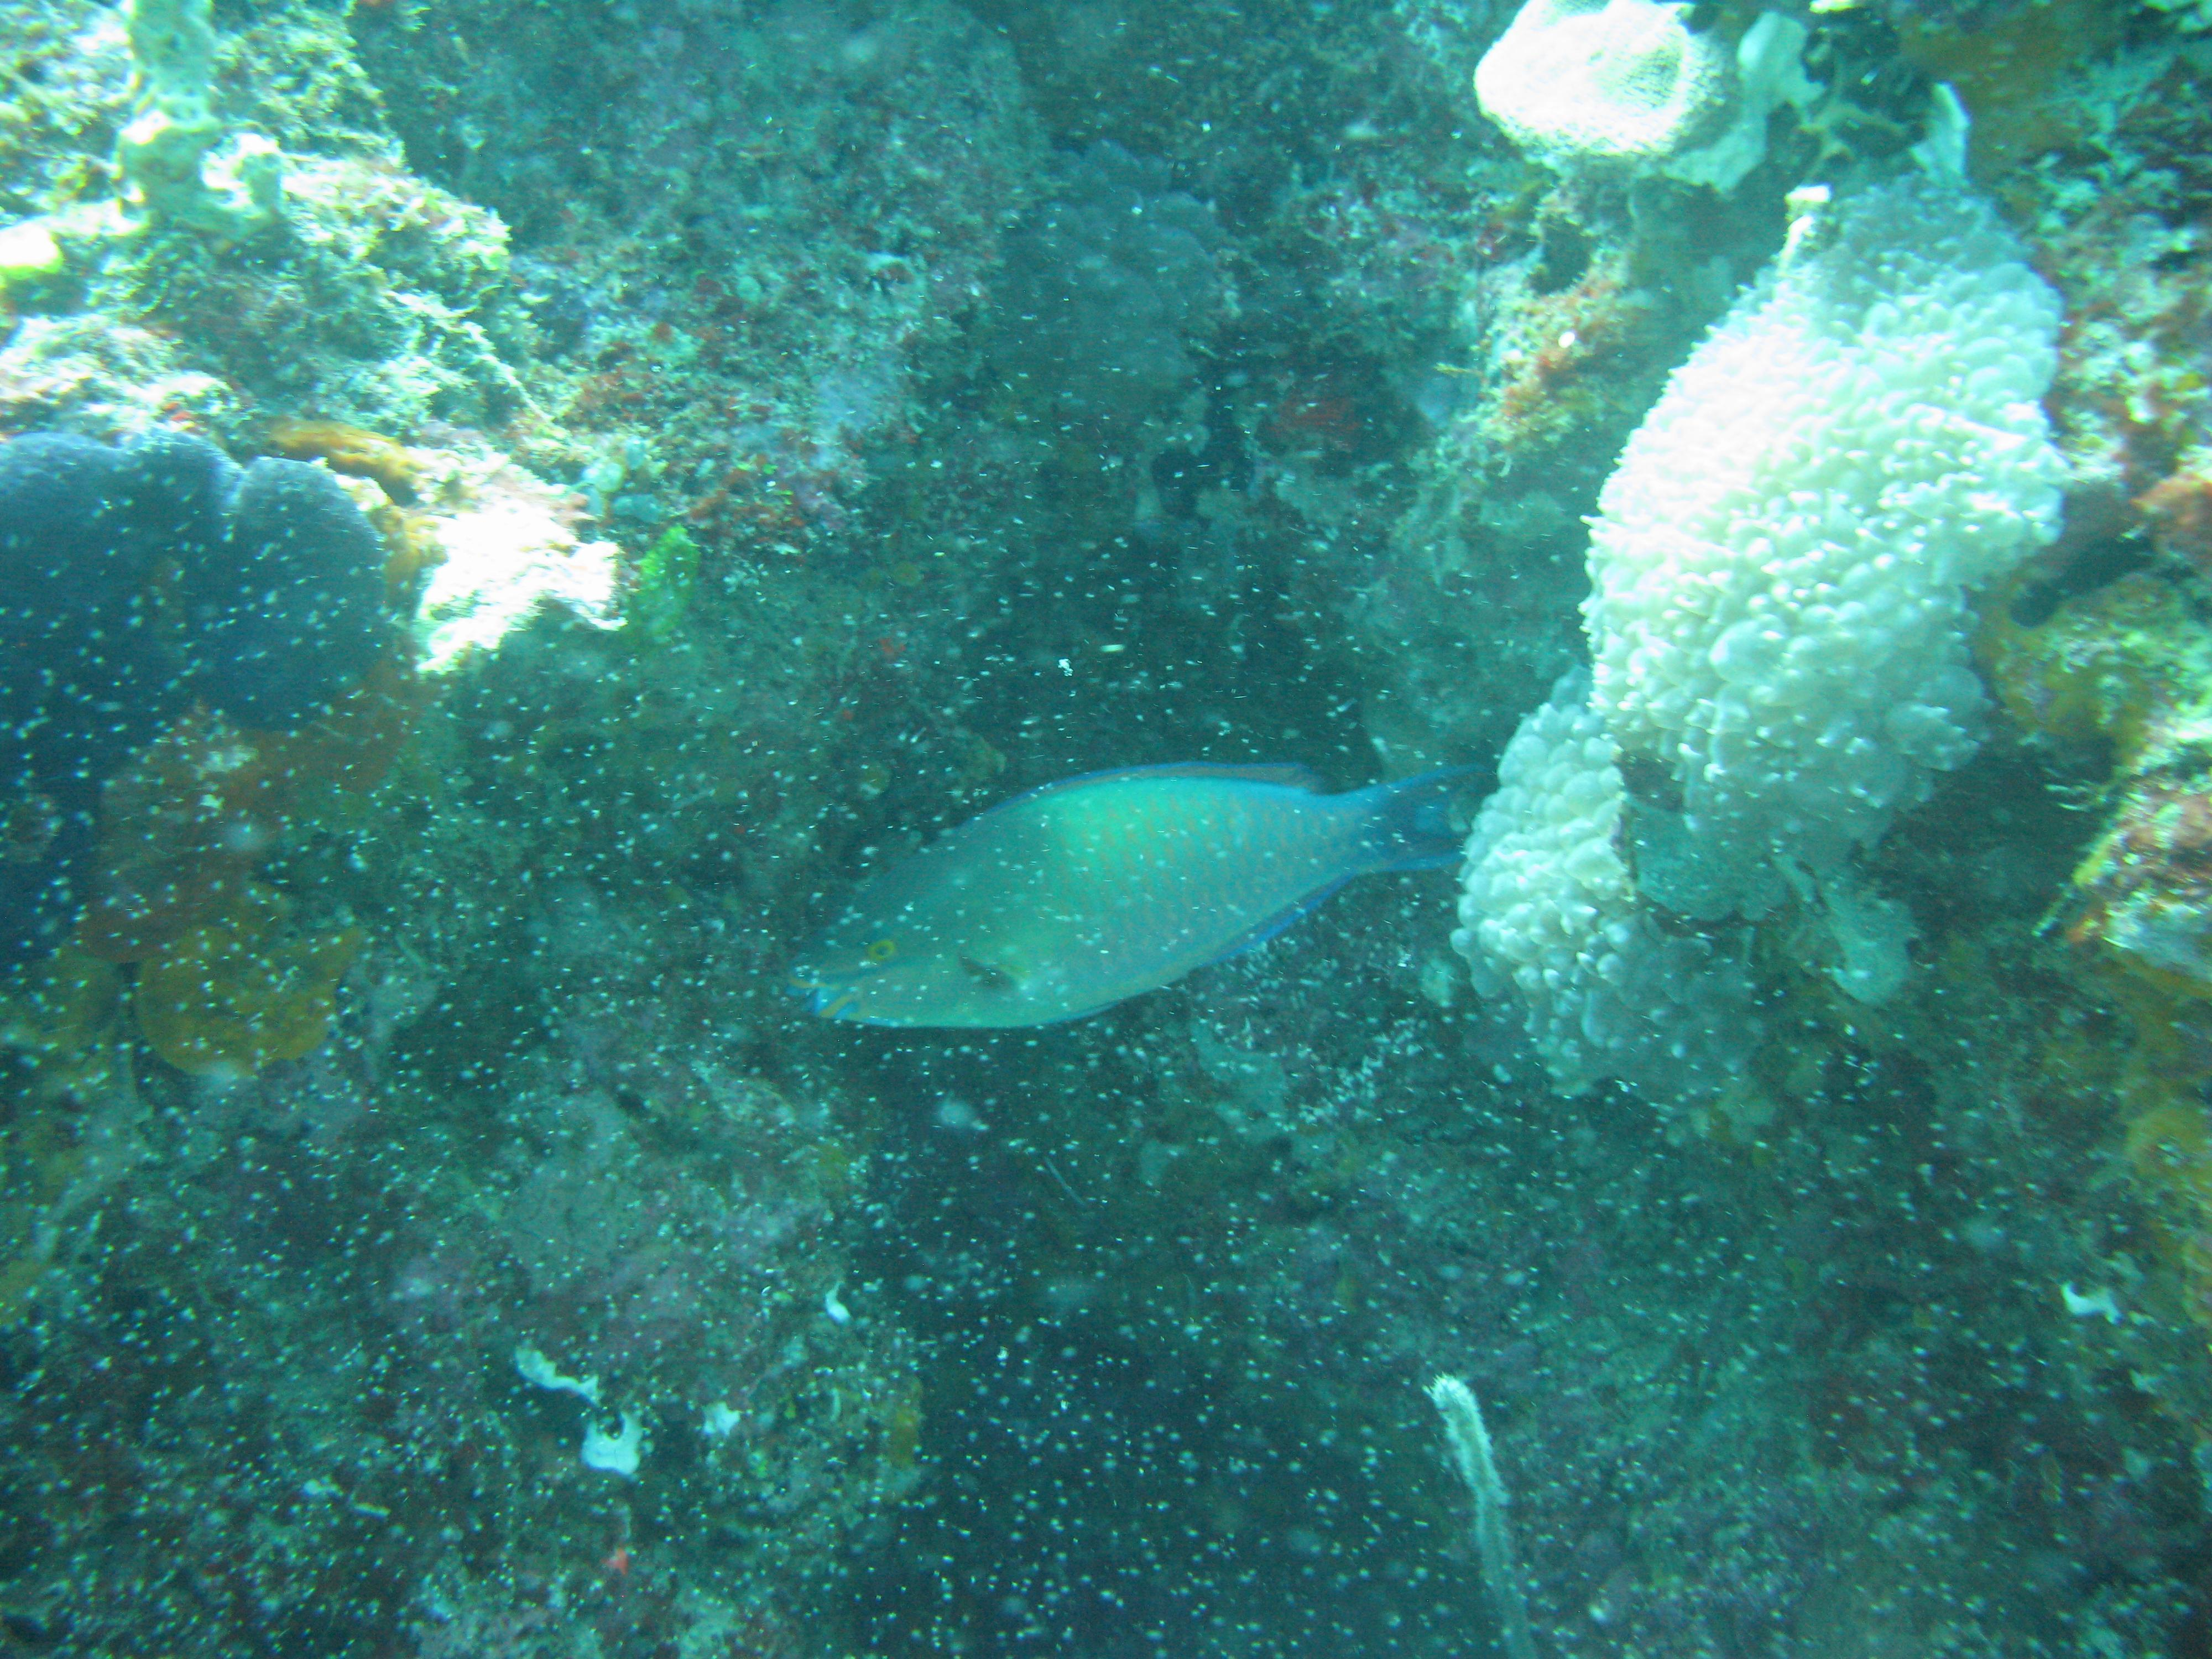Fish: (798, 725, 1487, 1065)
